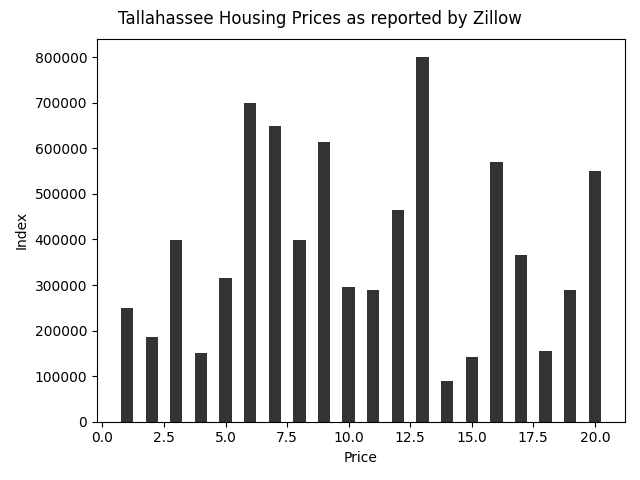canvas: (111, 49, 609, 422)
title: (115, 7, 528, 26)
x-axis: (89, 420, 639, 429)
x-labels: (87, 429, 616, 444)
x-title: (340, 448, 379, 466)
y-axis: (90, 34, 100, 425)
y-labels: (33, 47, 92, 426)
y-title: (11, 208, 28, 256)
